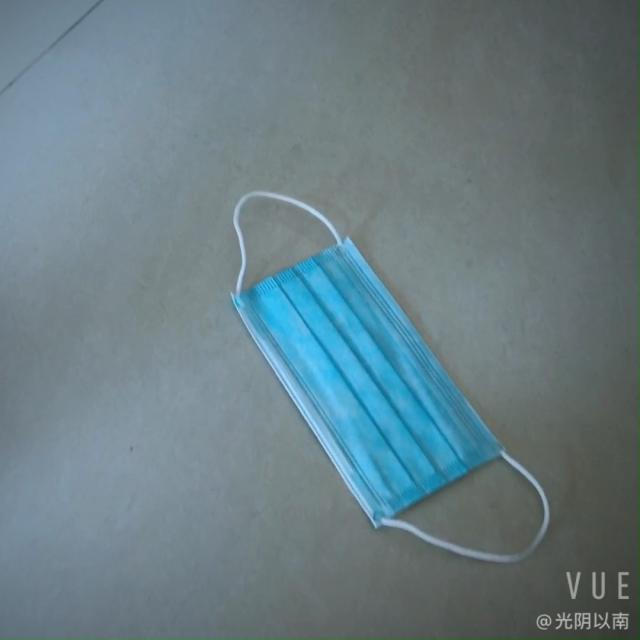non-organic waste: (208, 249, 542, 535)
